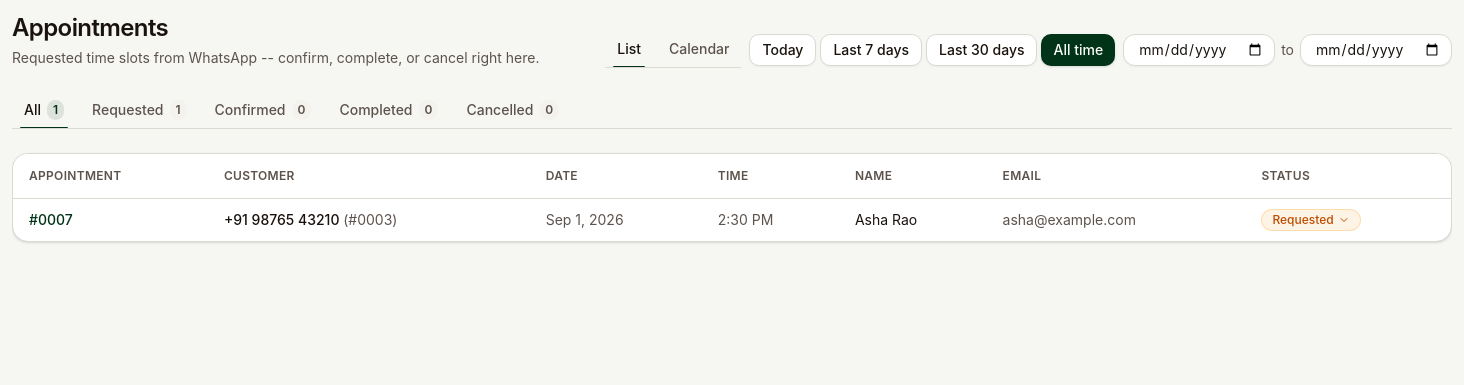
Test: AppointmentsPage › only offers legal next statuses in the status dropdown
Press the mouse on the button with aria-label "Change status for appointment #0007" at (1311, 220), box [1261,208,1361,230]
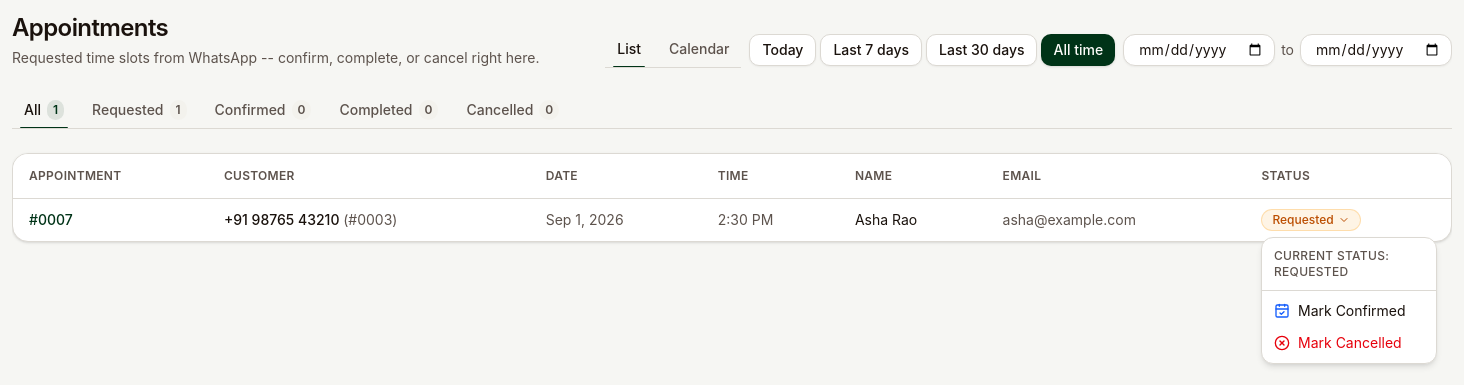
Expected: the menu items read "Mark Confirmed", "Mark Cancelled", in this order, [1274,302,1406,319]; [1274,334,1402,351]
